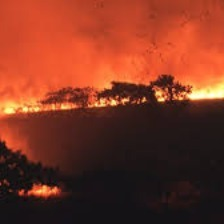incendio: (1, 6, 218, 78), (1, 68, 222, 123), (12, 175, 76, 207)
